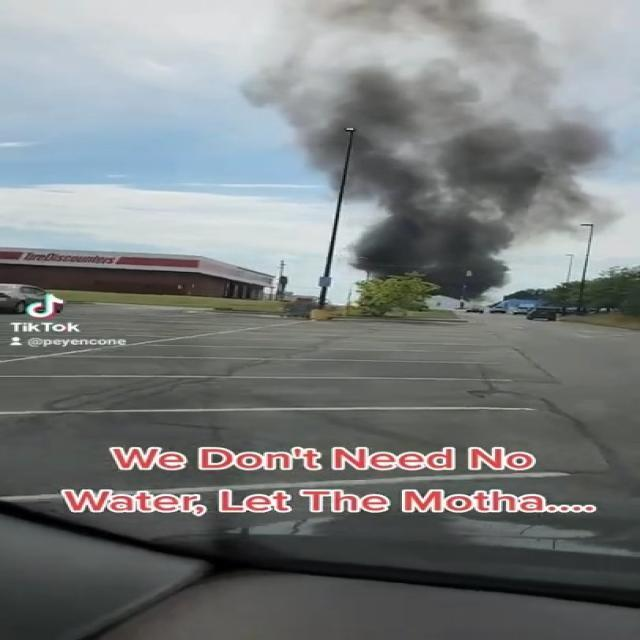Smoke: (324, 182, 506, 278)
